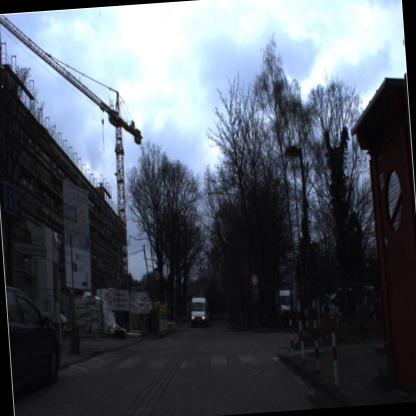prohibitory: (250, 272, 260, 290), (151, 267, 162, 283)
